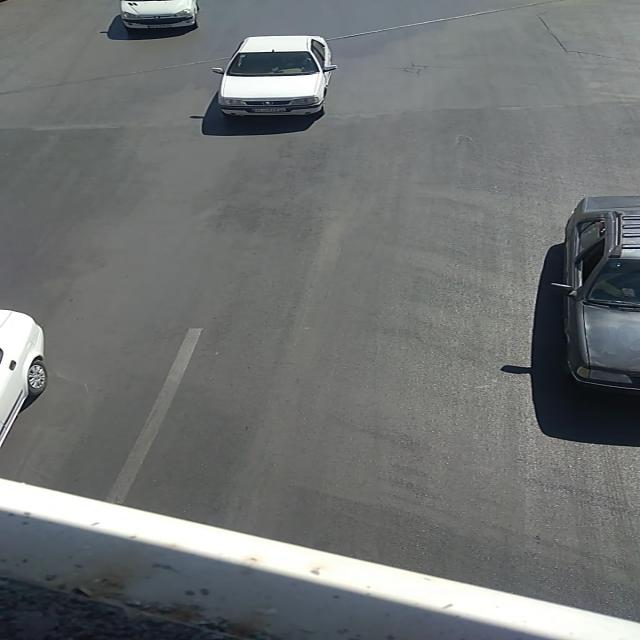car: (560, 198, 639, 390), (212, 34, 338, 116), (117, 1, 199, 31)
